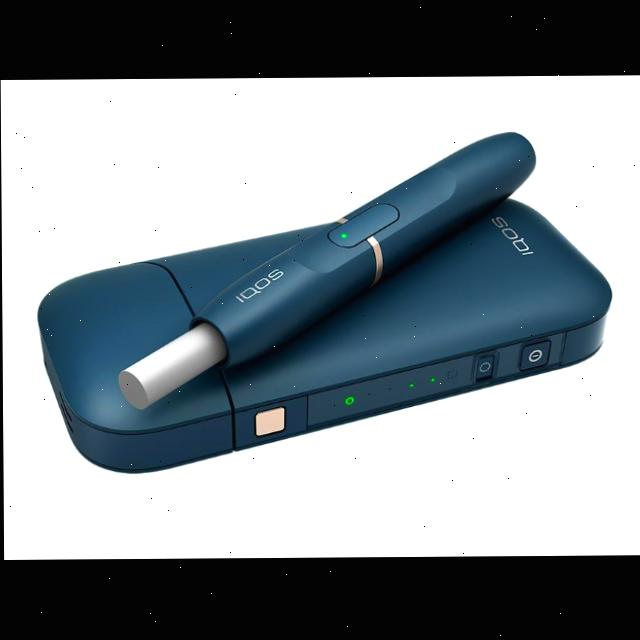vape: (113, 132, 538, 412)
